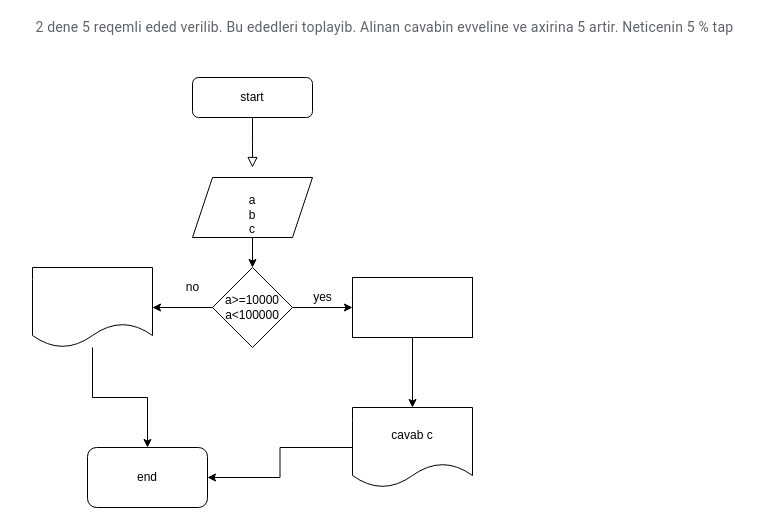
This 764x525 diagram has some shape labels left out. The box of each missing label's shape, as (x1, y1, x2, y2) in pixels:
c=a+b c=c*10+5 c=c*5/100: (352, 276, 472, 338)
eded 5 reqemli deyil: (32, 266, 152, 348)
